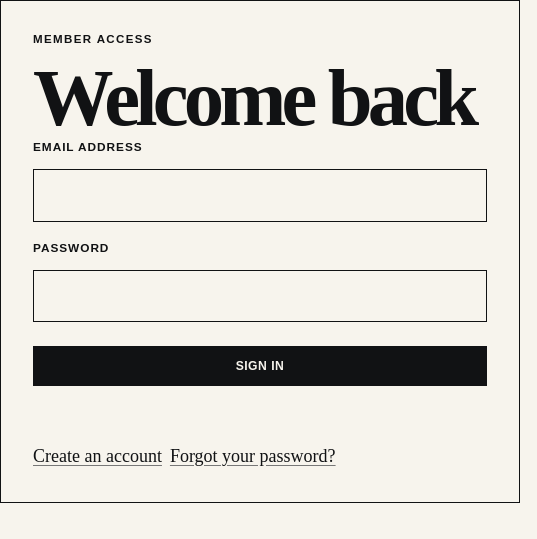
Test case: AuthForm › announces authentication failures as errors
Step 1. Type "reader@example.com" into the field labelled "Email address" → (260, 196), box [33,169,487,222]
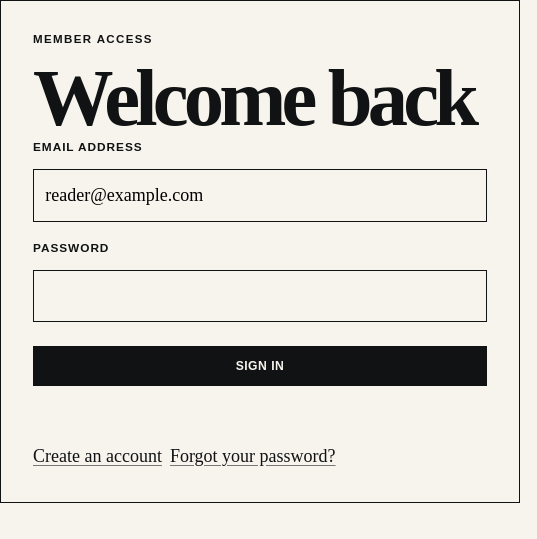
Step 2. Type "wrong-password" into the password field labelled "Password" → (260, 296), box [33,270,487,322]
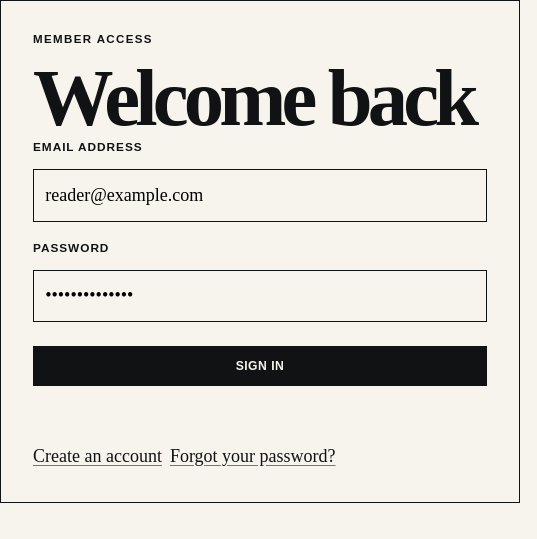
Step 3. Click the button "Sign in" → (260, 366), box [33,346,487,386]
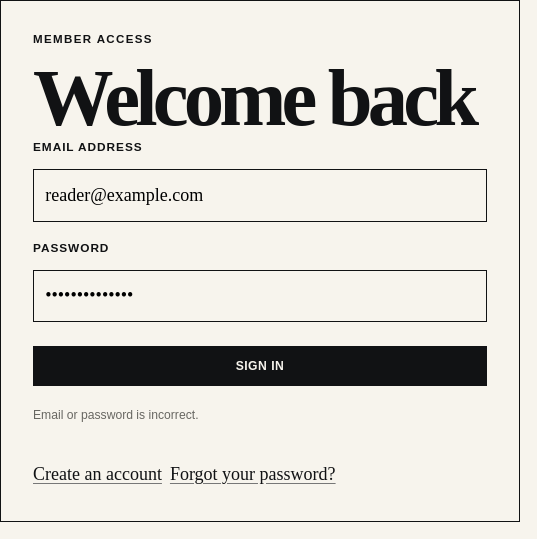
Result: the message reads "Email or password is incorrect." at [33,408,198,422]
